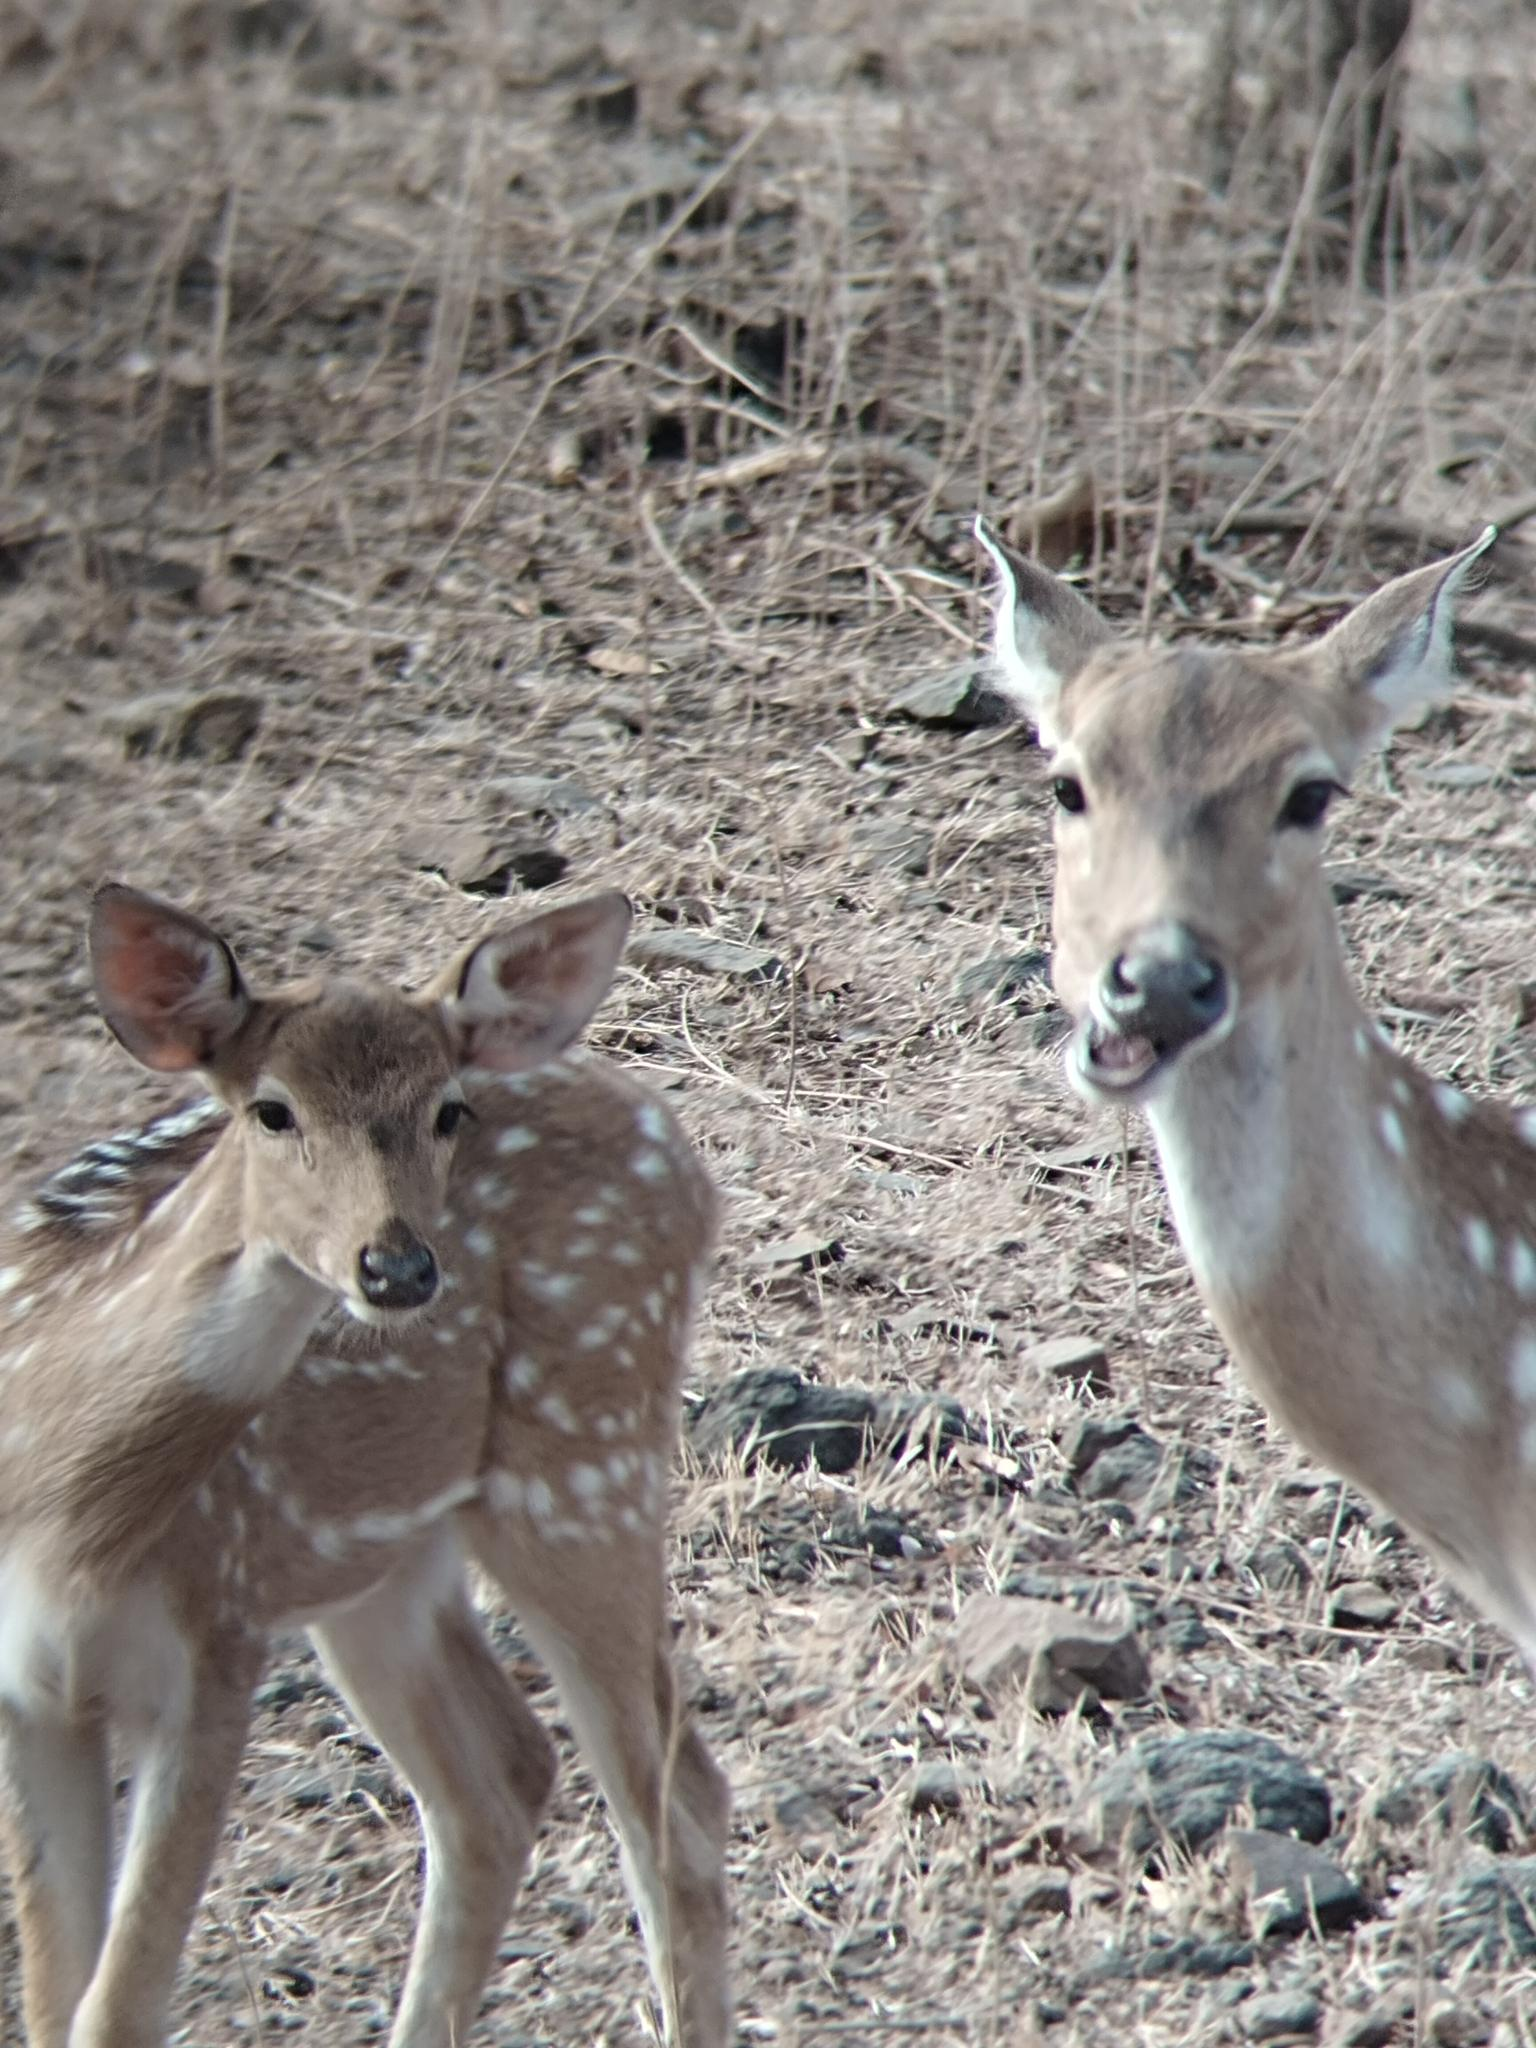Deer: (0, 889, 728, 2046), (978, 524, 1534, 1679)
